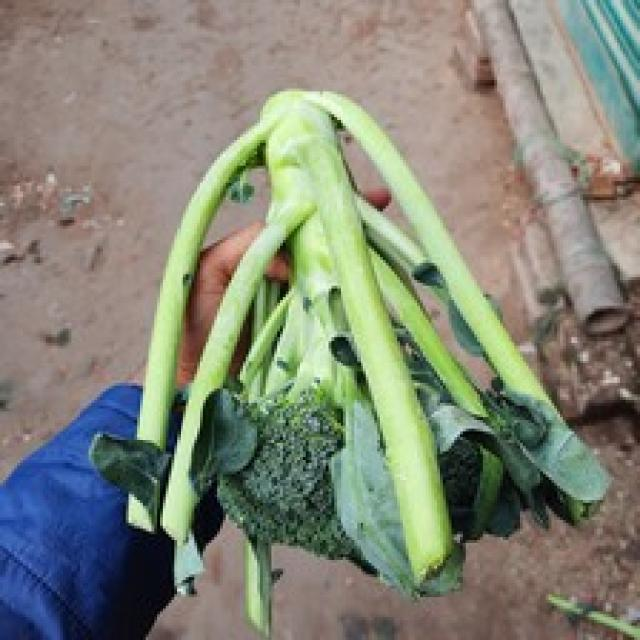Broccoli: (218, 390, 355, 557)
